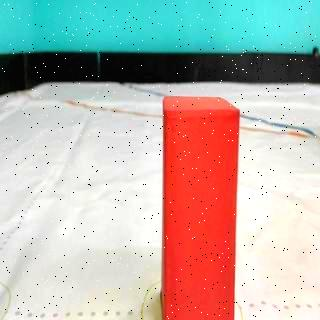redbox: (164, 96, 235, 320)
